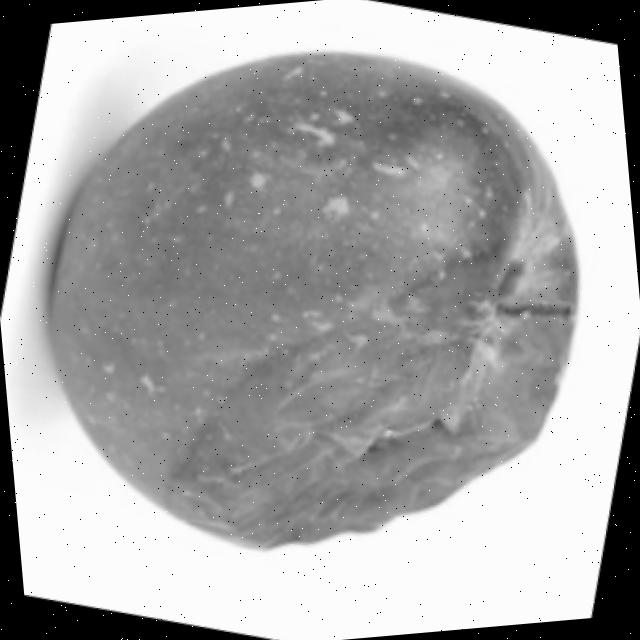Rotten: (22, 27, 608, 580)
